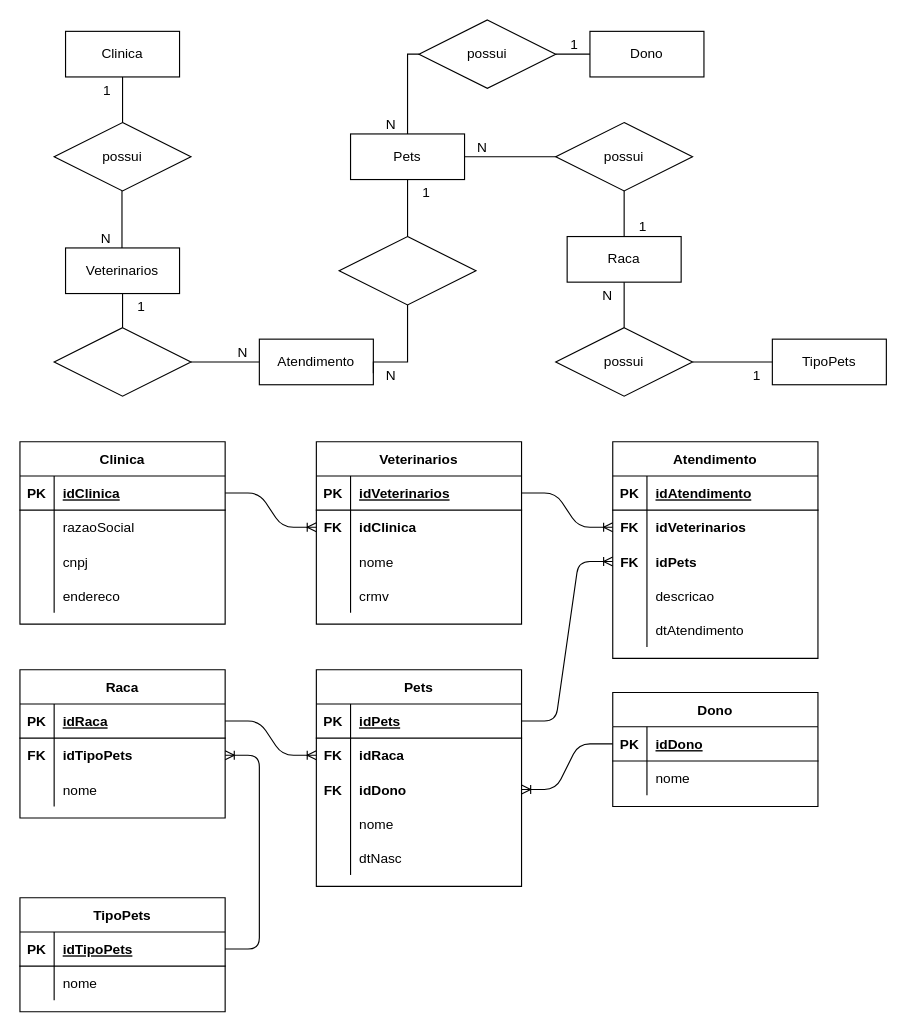
Some shapes in this 906 by 1032 pixel diagram are drawn without their labels. Each missing label, with the centre of its shape:
"atende" belongs at (407,270).
"realiza" belongs at (122,361).
